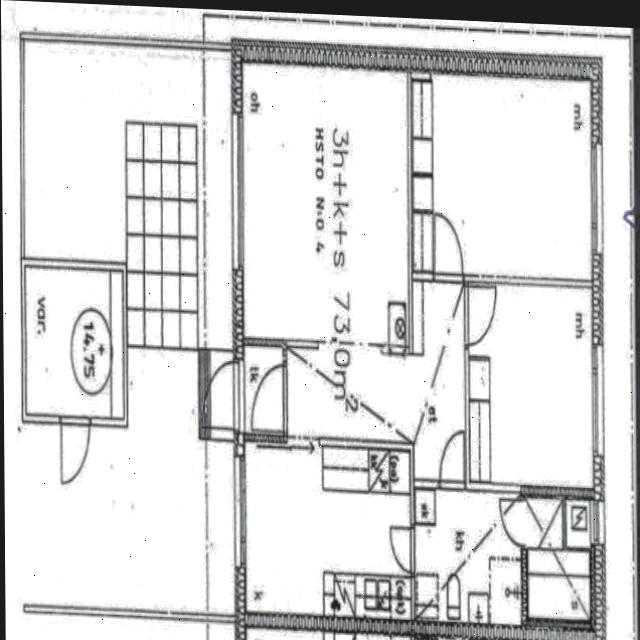room: (241, 61, 408, 348), (432, 72, 591, 281), (243, 442, 411, 619), (467, 281, 592, 490), (24, 266, 123, 419), (413, 488, 520, 626)
